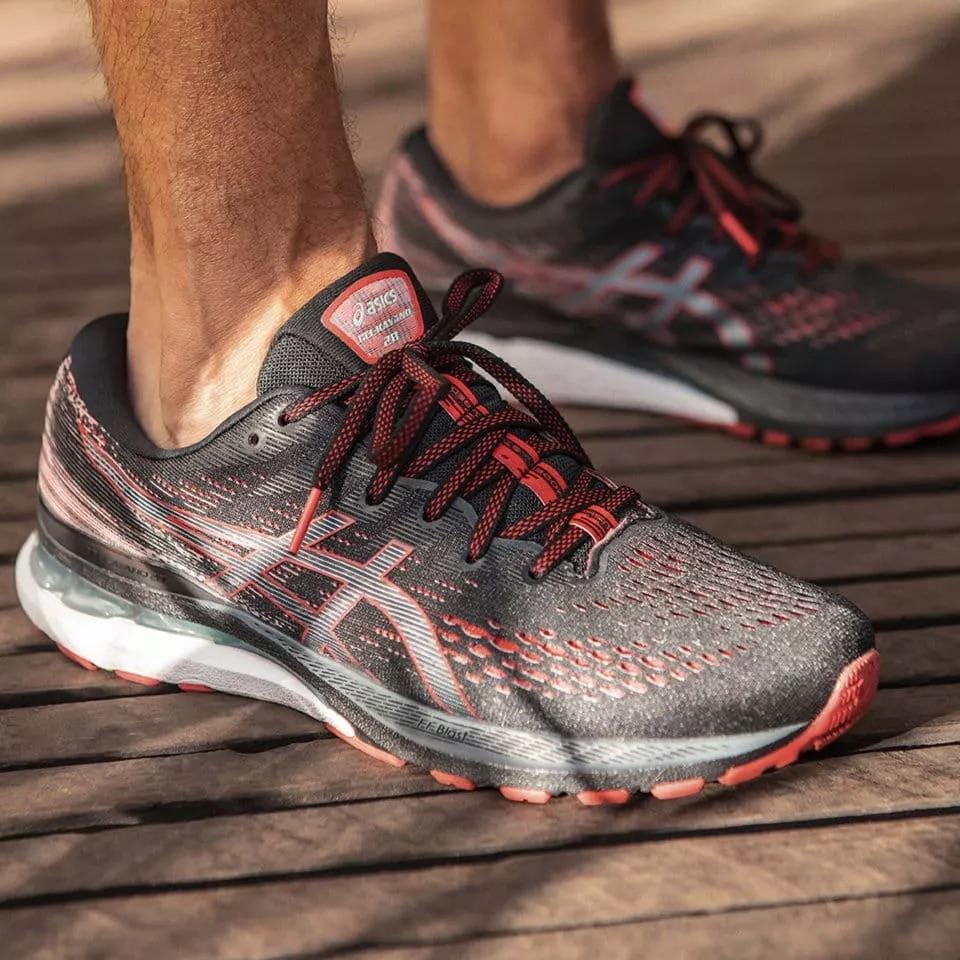asics logo: (66, 423, 511, 736), (468, 219, 794, 382)
